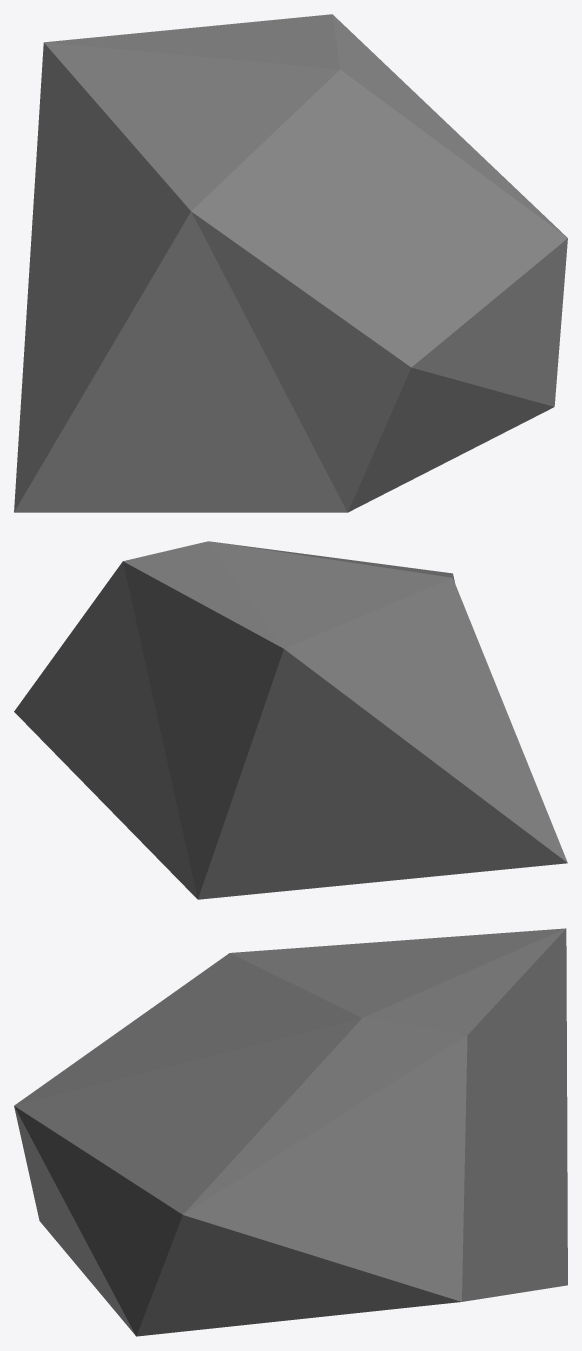
Rendered from rock3.fbx.
3 views of the same model, one above another, from view 1: azimuth 30°, elevation 25°; view 2: azimuth 150°, elevation 25°; view 3: azimuth 270°, elevation 25° (orthographic). The views are drawn at different scales.
Parts seen in each view (by area): view 1: Cube; view 2: Cube; view 3: Cube.
Boxes of the visible parts, x1,y1,x2,y2 form: Cube: (14, 14, 567, 512); Cube: (14, 541, 567, 899); Cube: (14, 928, 567, 1336).
Size of the model in its own units: 75.13 by 42.3 by 67.17.
